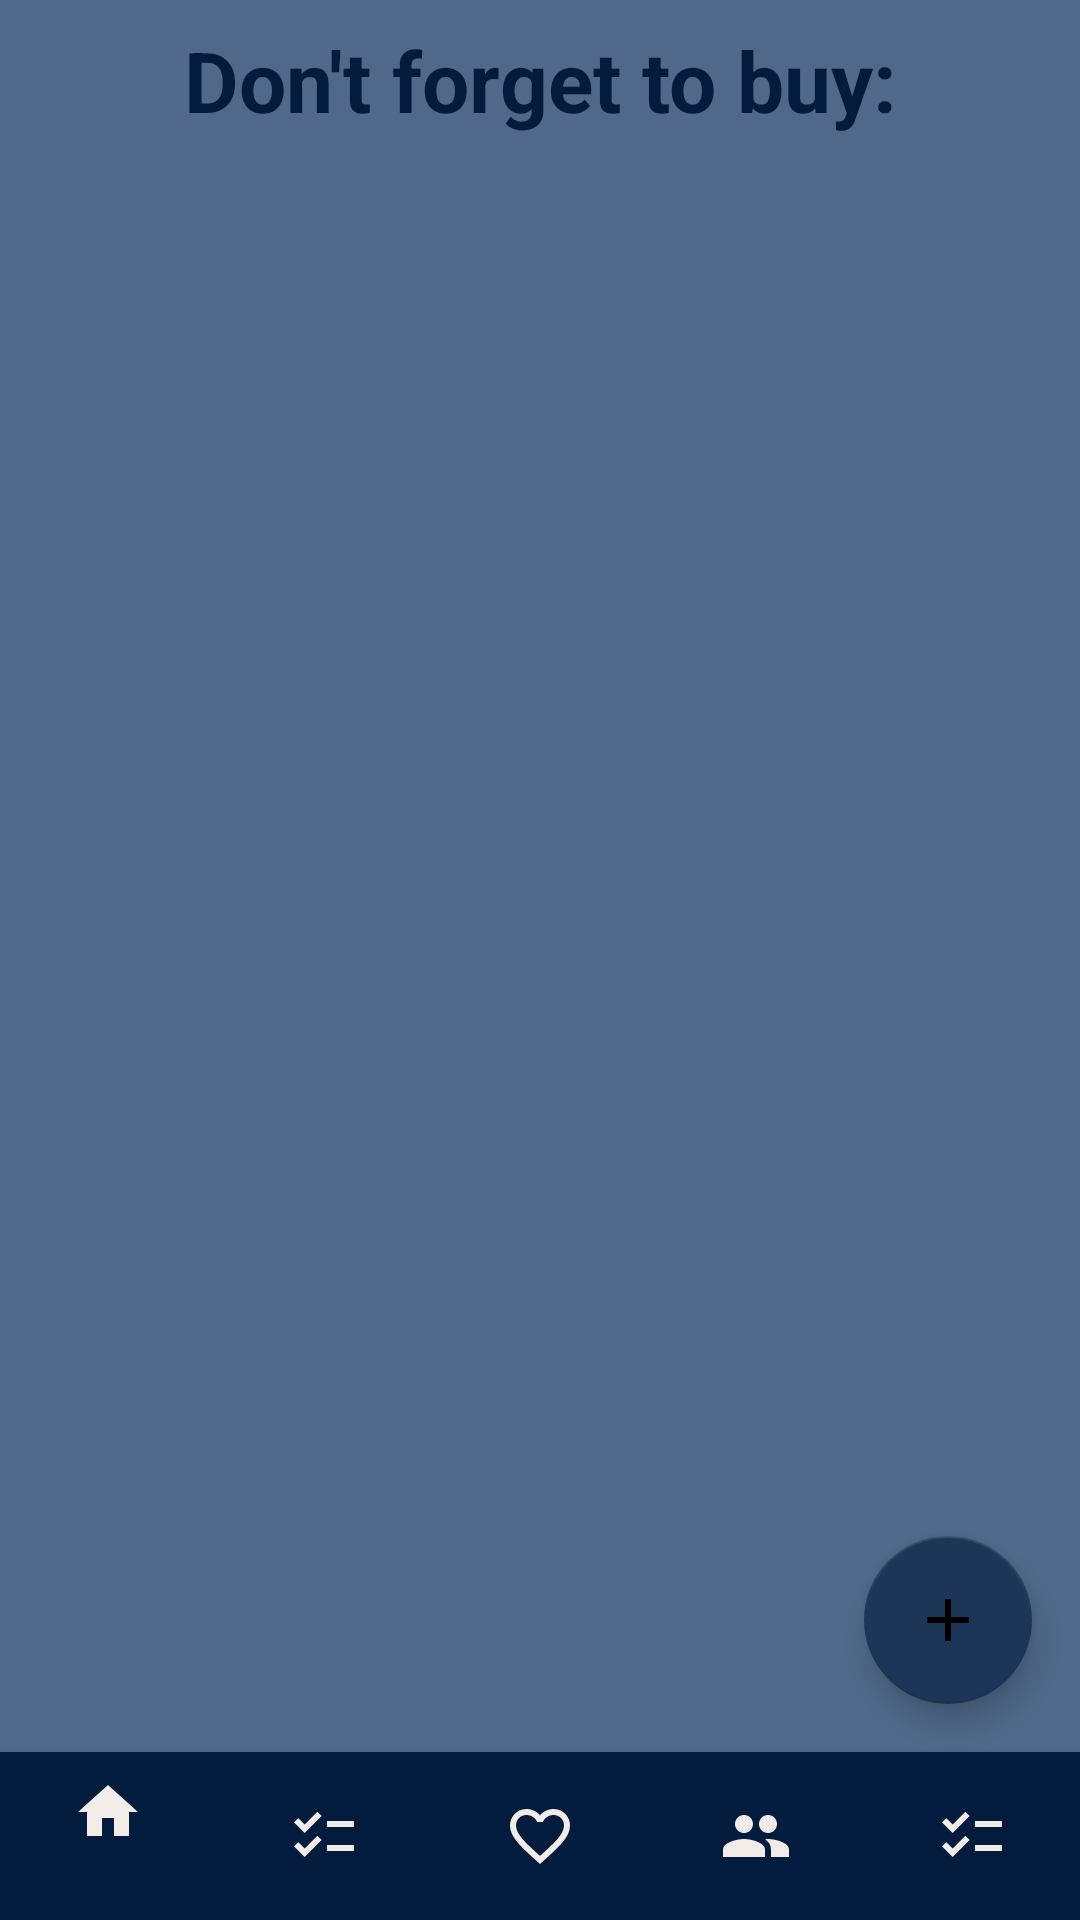

Screen size 1080*1920. Icon name, then its center in pixels as point (x, y):
add: point (948, 1620)
